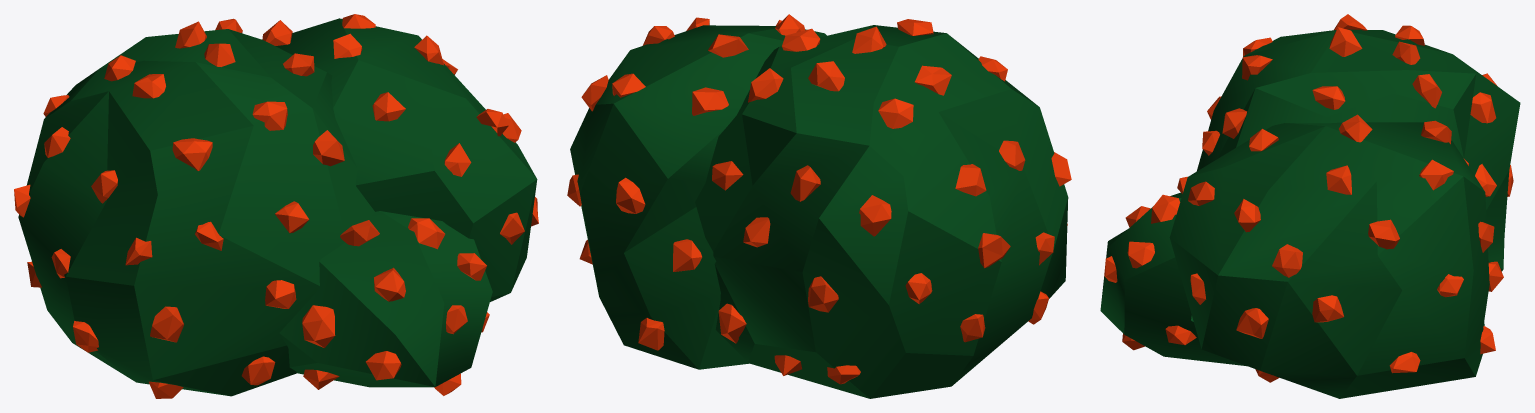
File: Bush1_WF.fbx
3 views of the same model, side by side, from view 1: azimuth 30°, elevation 25°; view 2: azimuth 150°, elevation 25°; view 3: azimuth 270°, elevation 25° (orthographic). The views are drawn at different scales.
Parts seen in each view (by area): view 1: Bush1_WF; view 2: Bush1_WF; view 3: Bush1_WF.
Part boxes in pixels (x1=…): Bush1_WF: x1=14, y1=14, x2=538, y2=398; Bush1_WF: x1=567, y1=14, x2=1071, y2=398; Bush1_WF: x1=1100, y1=14, x2=1520, y2=398.
Size of the model in its own units: 45.9 by 29.55 by 40.83.
